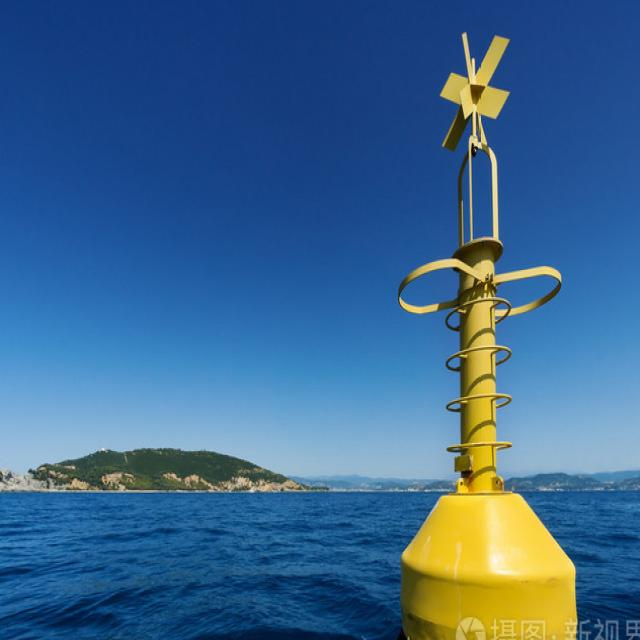buoy: (394, 24, 584, 640)
